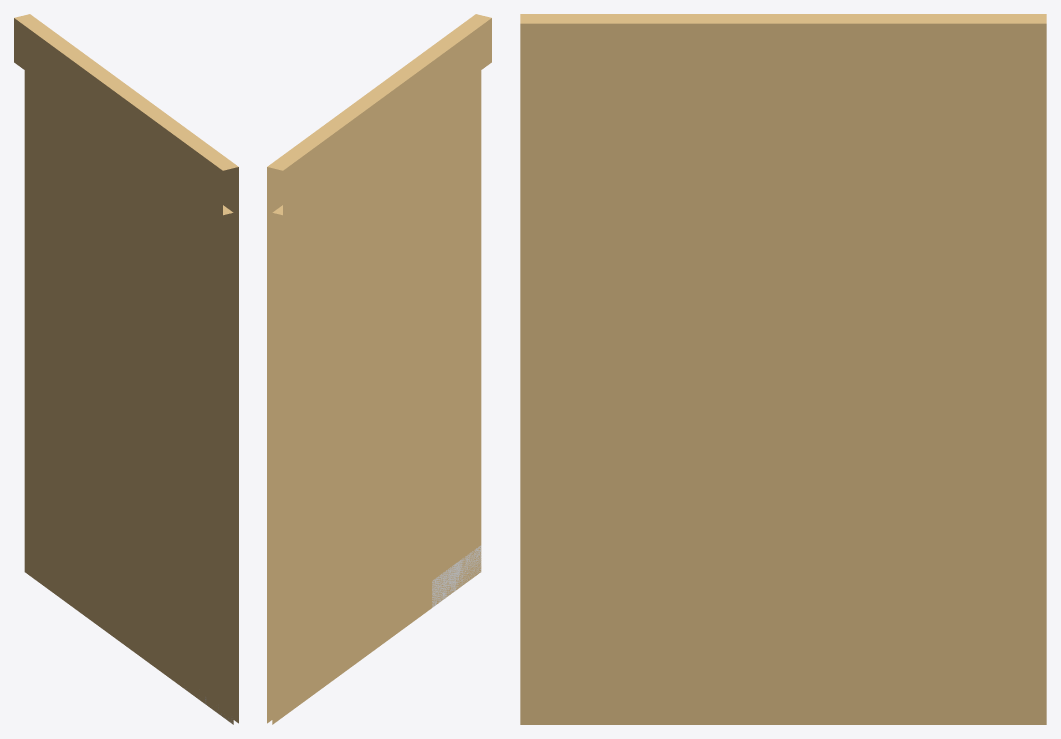
File: kitchen_dishwasher_back.dae
3 views of the same model, side by side, from view 1: azimuth 30°, elevation 25°; view 2: azimuth 150°, elevation 25°; view 3: azimuth 270°, elevation 25° (orthographic). The views are drawn at different scales.
Parts seen in each view (by area): view 1: BK_1, R2_9; view 2: BK_1, R2_9, image_0; view 3: BK_1, R2_9.
Part boxes in pixels (<box>): BK_1: <box>24,14,238,724</box>; R2_9: <box>14,15,233,215</box>; BK_1: <box>267,14,481,724</box>; R2_9: <box>272,15,491,215</box>; image_0: <box>432,545,481,607</box>; BK_1: <box>520,20,1046,724</box>; R2_9: <box>520,14,1046,20</box>.
Size of the model in its own units: 1.12 by 25.5 by 37.5.
